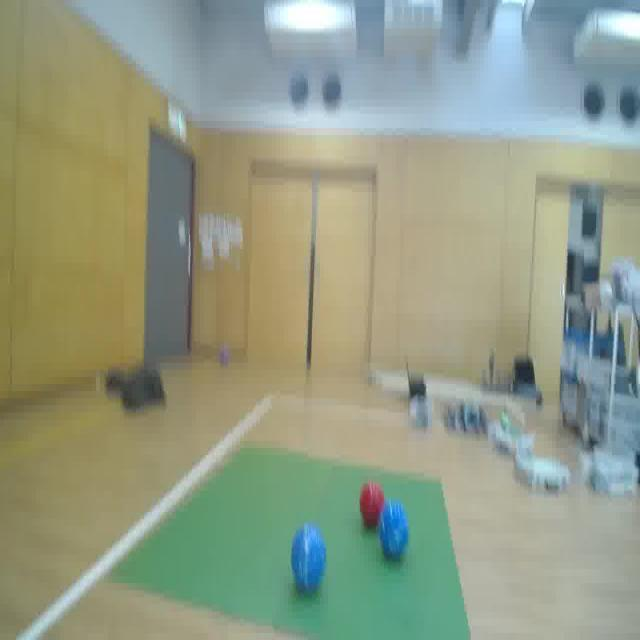blue_ball: (287, 522, 327, 592), (378, 498, 412, 564)
purple_ball: (217, 345, 228, 369)
red_ball: (359, 481, 385, 526)
